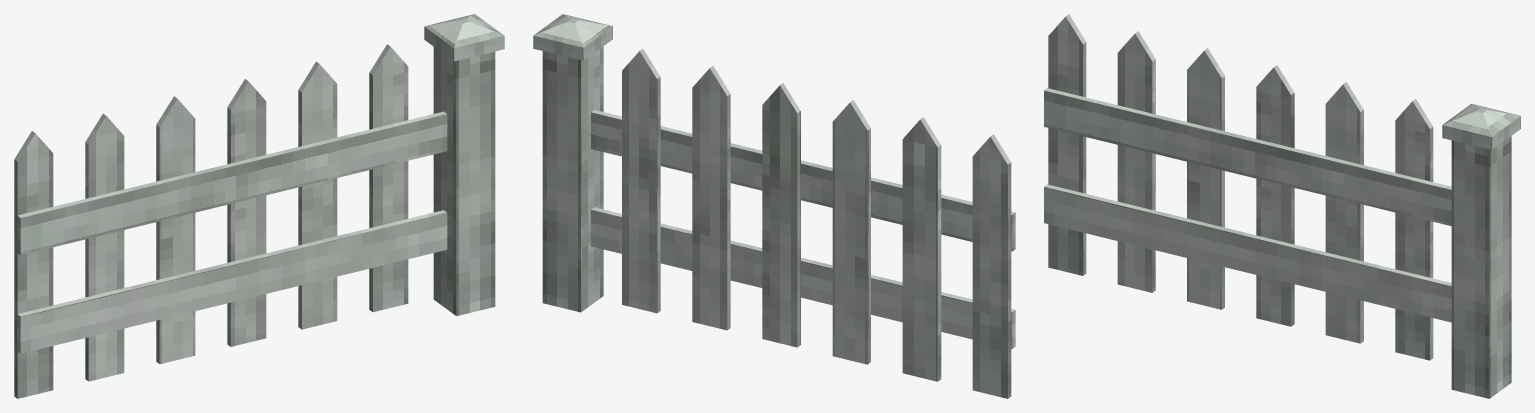
File: white_picket_fence_closed_left.glb
The picture shows the model from 3 angles, left to right: view 1: azimuth 30°, elevation 25°; view 2: azimuth 150°, elevation 25°; view 3: azimuth 330°, elevation 25°; orthographic projection. The views are drawn at different scales.
Parts seen in each view (by area): view 1: white_picket_fence_closed_left; view 2: white_picket_fence_closed_left; view 3: white_picket_fence_closed_left.
Boxes of the visible parts, x1,y1,x2,y2 form: white_picket_fence_closed_left: (14,14,504,398); white_picket_fence_closed_left: (533,14,1015,398); white_picket_fence_closed_left: (1044,14,1520,398).
Size of the model in its own units: 2.39 by 1.37 by 0.2613.
1 material, 1 textured.
